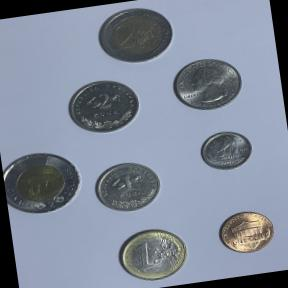coin: (0, 140, 90, 221), (89, 0, 180, 72), (60, 72, 148, 142), (164, 51, 250, 118), (111, 220, 194, 288), (190, 124, 260, 180), (211, 203, 280, 259)
